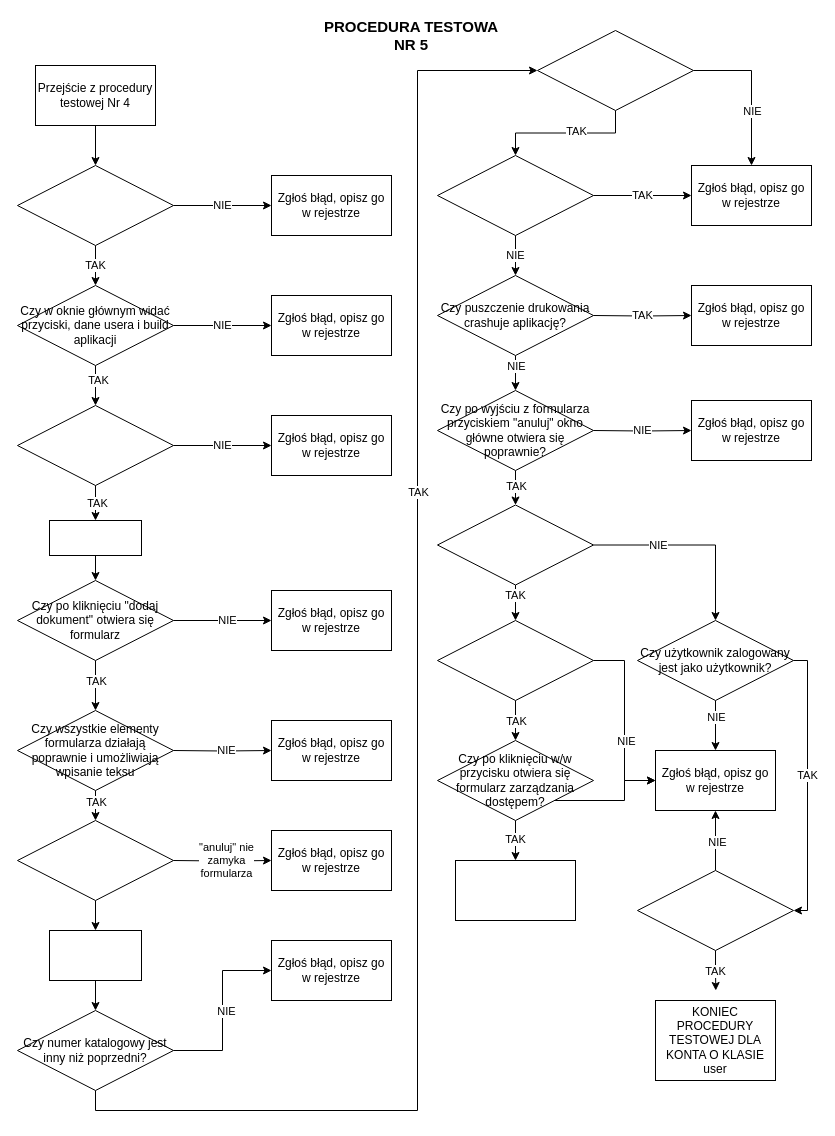
Some shapes in this 835 by 1136 pixel diagram are drawn without their labels. Each missing label, with the centre of its shape:
Czy anulowanie drukowania crashuje aplikację?: pixel 515 195
Czy otwiera się Okno Główne aplikacji: pixel 95 205
Czy po kliknięciu w "wyloguj się", ponownie otwiera się okno logowania?: pixel 95 445
Czy przycisk "drukuj" otwiera systemowe okno drukowania: pixel 615 70
Czy użytkownik widzi przycisk "zarządzaj dostępem"?: pixel 515 544
Czy użytkownik zalogowany jest jako administrator?: pixel 515 660
Czy zamykanie okna głównego działa poprawnie?: pixel 715 910
Otwórz formularz ponownie: pixel 95 955
Przejdź do procedury testowej Nr 6: pixel 515 890
Sprawdź Numer Katalogowy dokumentu, zapisz go a następnie zamknij formularz: pixel 95 860
Zaloguj się ponowie: pixel 95 538
